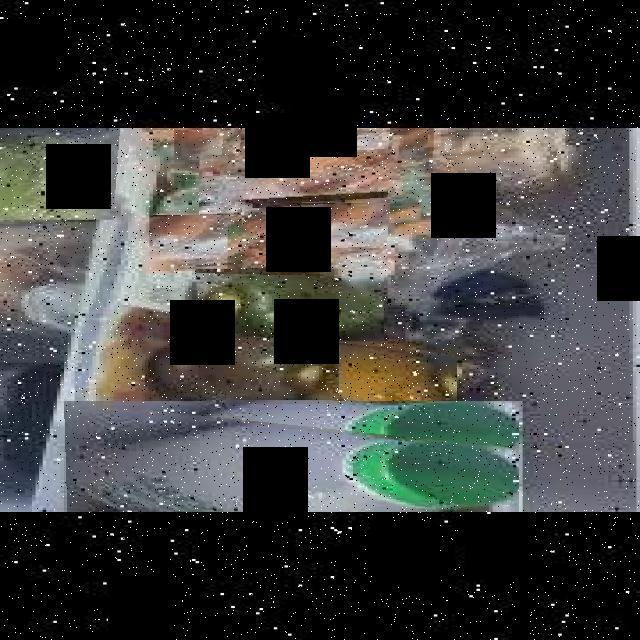bread: (292, 128, 583, 209)
carrot: (199, 128, 430, 235), (242, 203, 391, 275), (146, 215, 320, 271), (148, 130, 218, 156)
lemon: (300, 339, 457, 401)
milk: (61, 401, 519, 512)
salad: (0, 128, 139, 220)
tomato: (192, 269, 384, 341), (142, 337, 334, 408)
